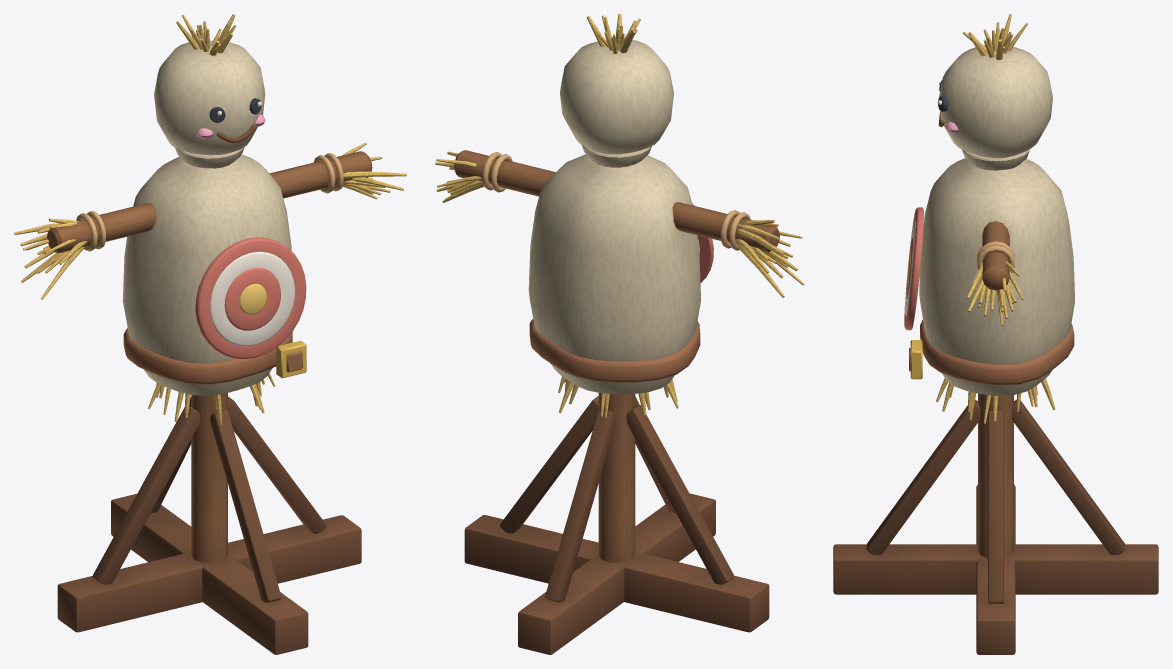
File: muneco_entreno.glb
3 renders of one model, left to right at view 1: azimuth 30°, elevation 25°; view 2: azimuth 150°, elevation 25°; view 3: azimuth 270°, elevation 25°, orthographic.
Visible parts, largest first — view 1: training-dummy_body; view 2: training-dummy_body; view 3: training-dummy_body.
Part boxes in pixels (x1,y1,x2,y2): training-dummy_body: (14,14,406,654); training-dummy_body: (435,14,804,654); training-dummy_body: (833,14,1158,654).
Bounding box in the file's own units: 1.28 × 1.91 × 1.
Materials: 7 (1 with a texture image).
